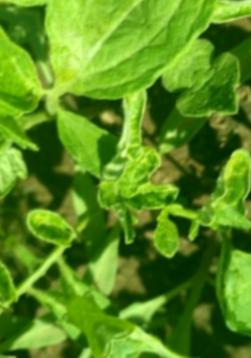Tomato leaf mosaic virus: (54, 83, 218, 247), (14, 0, 180, 132), (37, 84, 154, 201), (164, 131, 251, 256), (179, 223, 251, 326), (0, 34, 67, 128), (11, 187, 90, 266), (0, 133, 39, 217), (0, 86, 2, 164)
